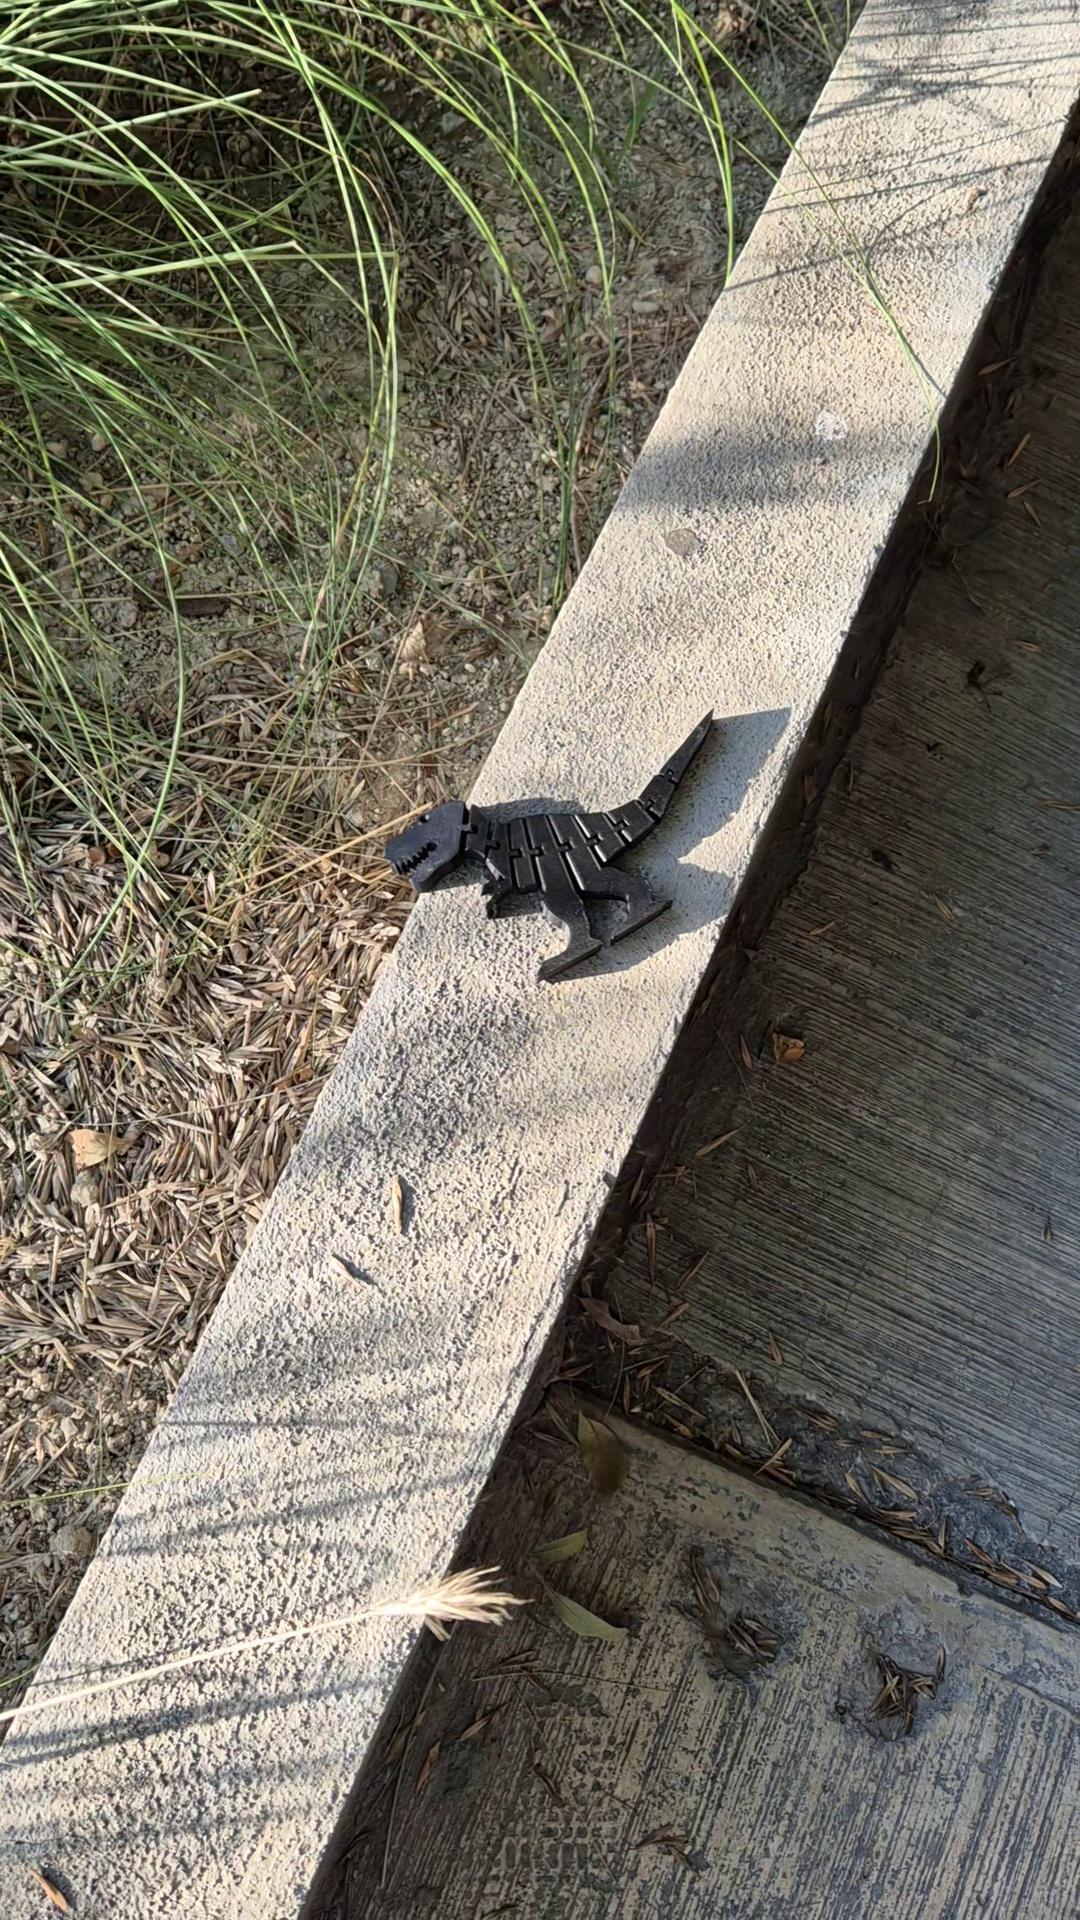dinosaur: (384, 707, 716, 985)
